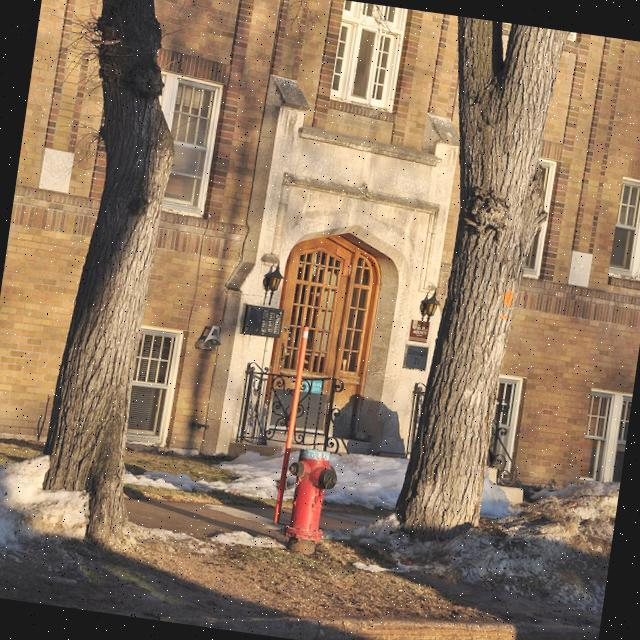fire_hydrant: (274, 444, 343, 558)
